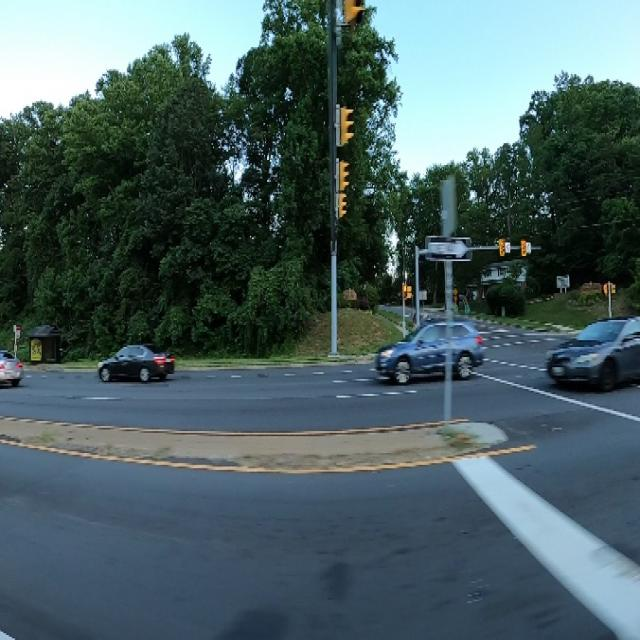car: (370, 307, 492, 393), (541, 300, 640, 401), (95, 340, 181, 394), (0, 346, 33, 393)
